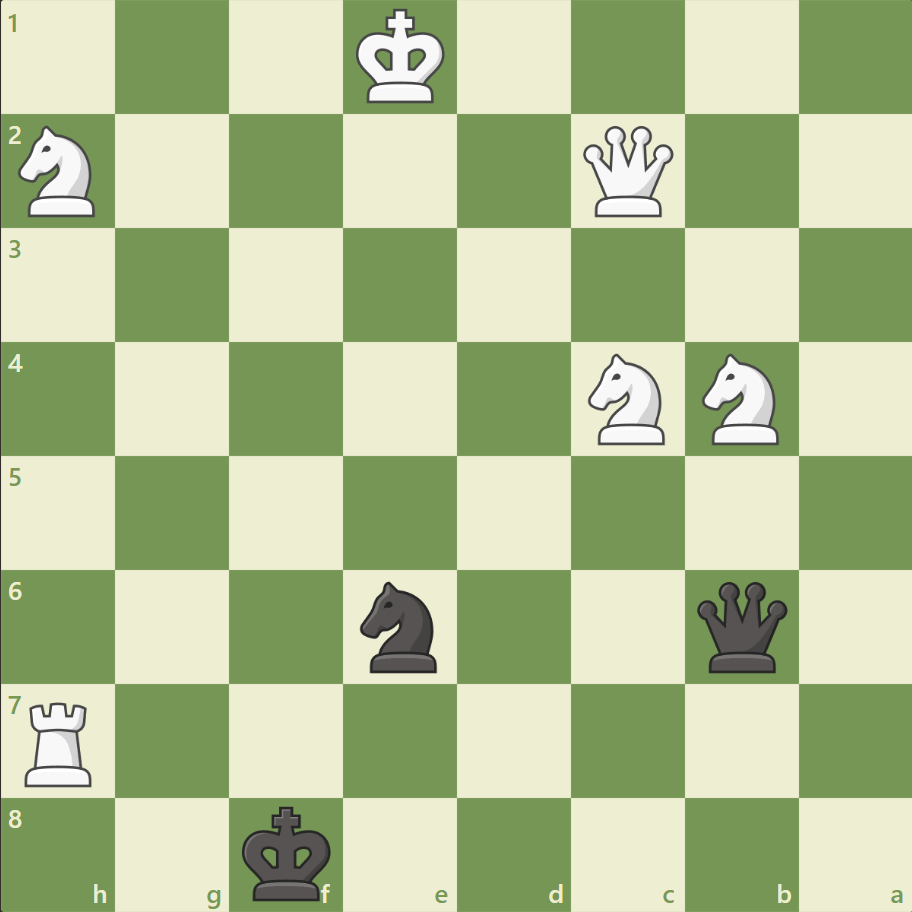K: (351, 4, 451, 112)
N: (692, 348, 789, 450), (579, 348, 676, 450), (11, 121, 108, 223)
Q: (578, 122, 677, 222)
R: (19, 693, 102, 790)
k: (238, 798, 338, 906)
n: (351, 575, 449, 677)
q: (691, 576, 790, 676)
